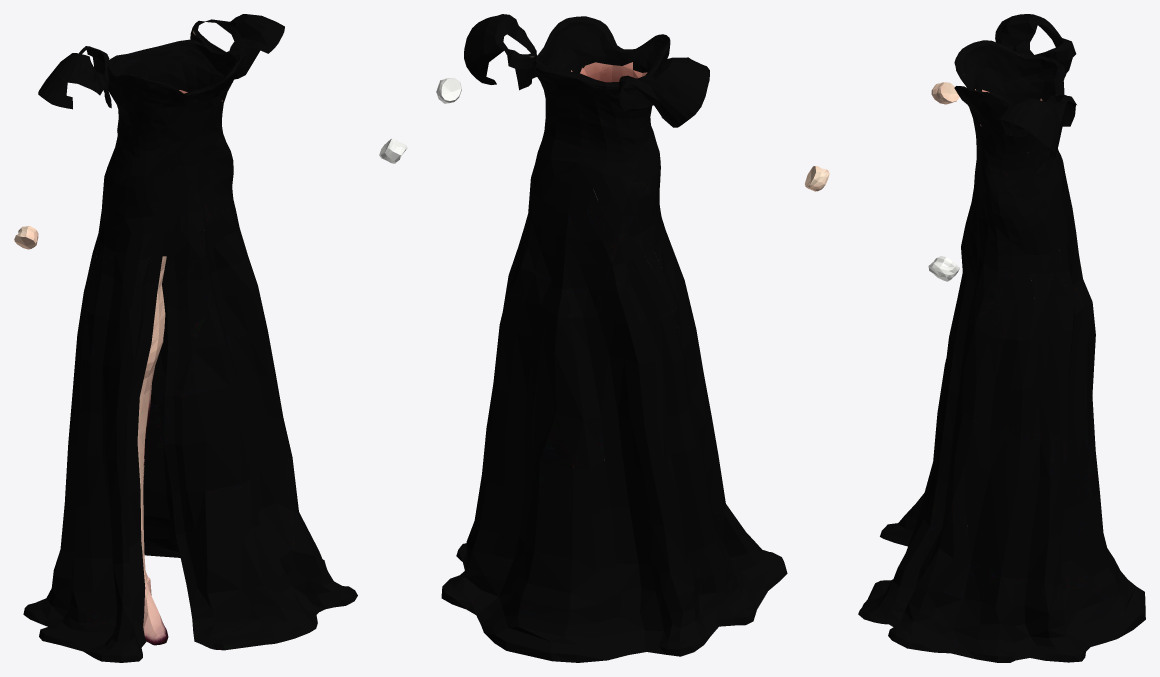
The model's file is ewm_t2halfdemonf_outfit.glb.
The picture shows the model from 3 angles, left to right: view 1: azimuth 30°, elevation 25°; view 2: azimuth 150°, elevation 25°; view 3: azimuth 270°, elevation 25°; orthographic projection. The views are drawn at different scales.
Parts seen in each view (by area): view 1: ewm_t2halfdemonf_outfit; view 2: ewm_t2halfdemonf_outfit; view 3: ewm_t2halfdemonf_outfit.
Boxes of the visible parts, x1,y1,x2,y2 form: ewm_t2halfdemonf_outfit: (14, 14, 407, 662); ewm_t2halfdemonf_outfit: (436, 14, 829, 662); ewm_t2halfdemonf_outfit: (858, 14, 1145, 662).
Size of the model in its own units: 1.08 by 1.52 by 0.7122.
1 material, 1 textured.
